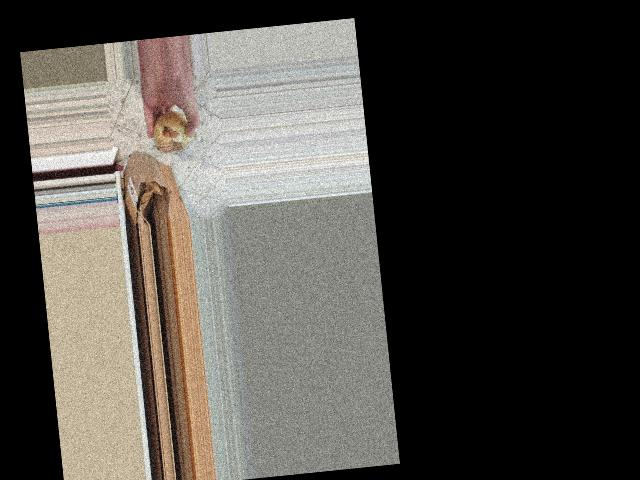onion: (150, 106, 199, 154)
